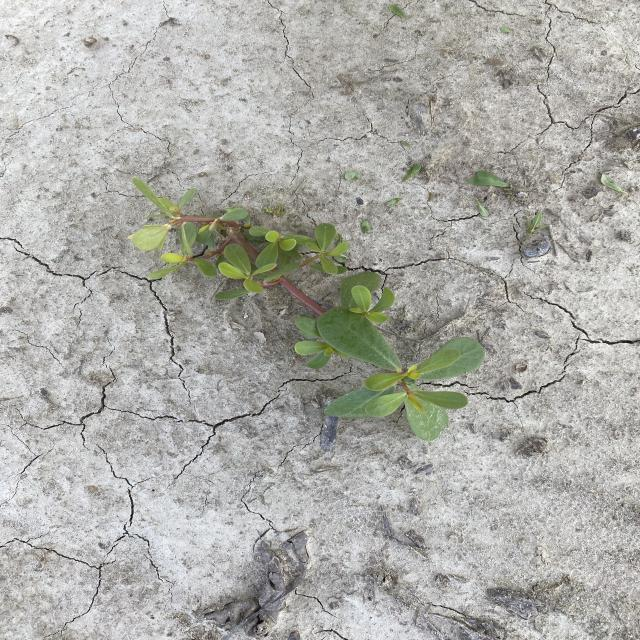Purslane: (124, 175, 489, 443)
